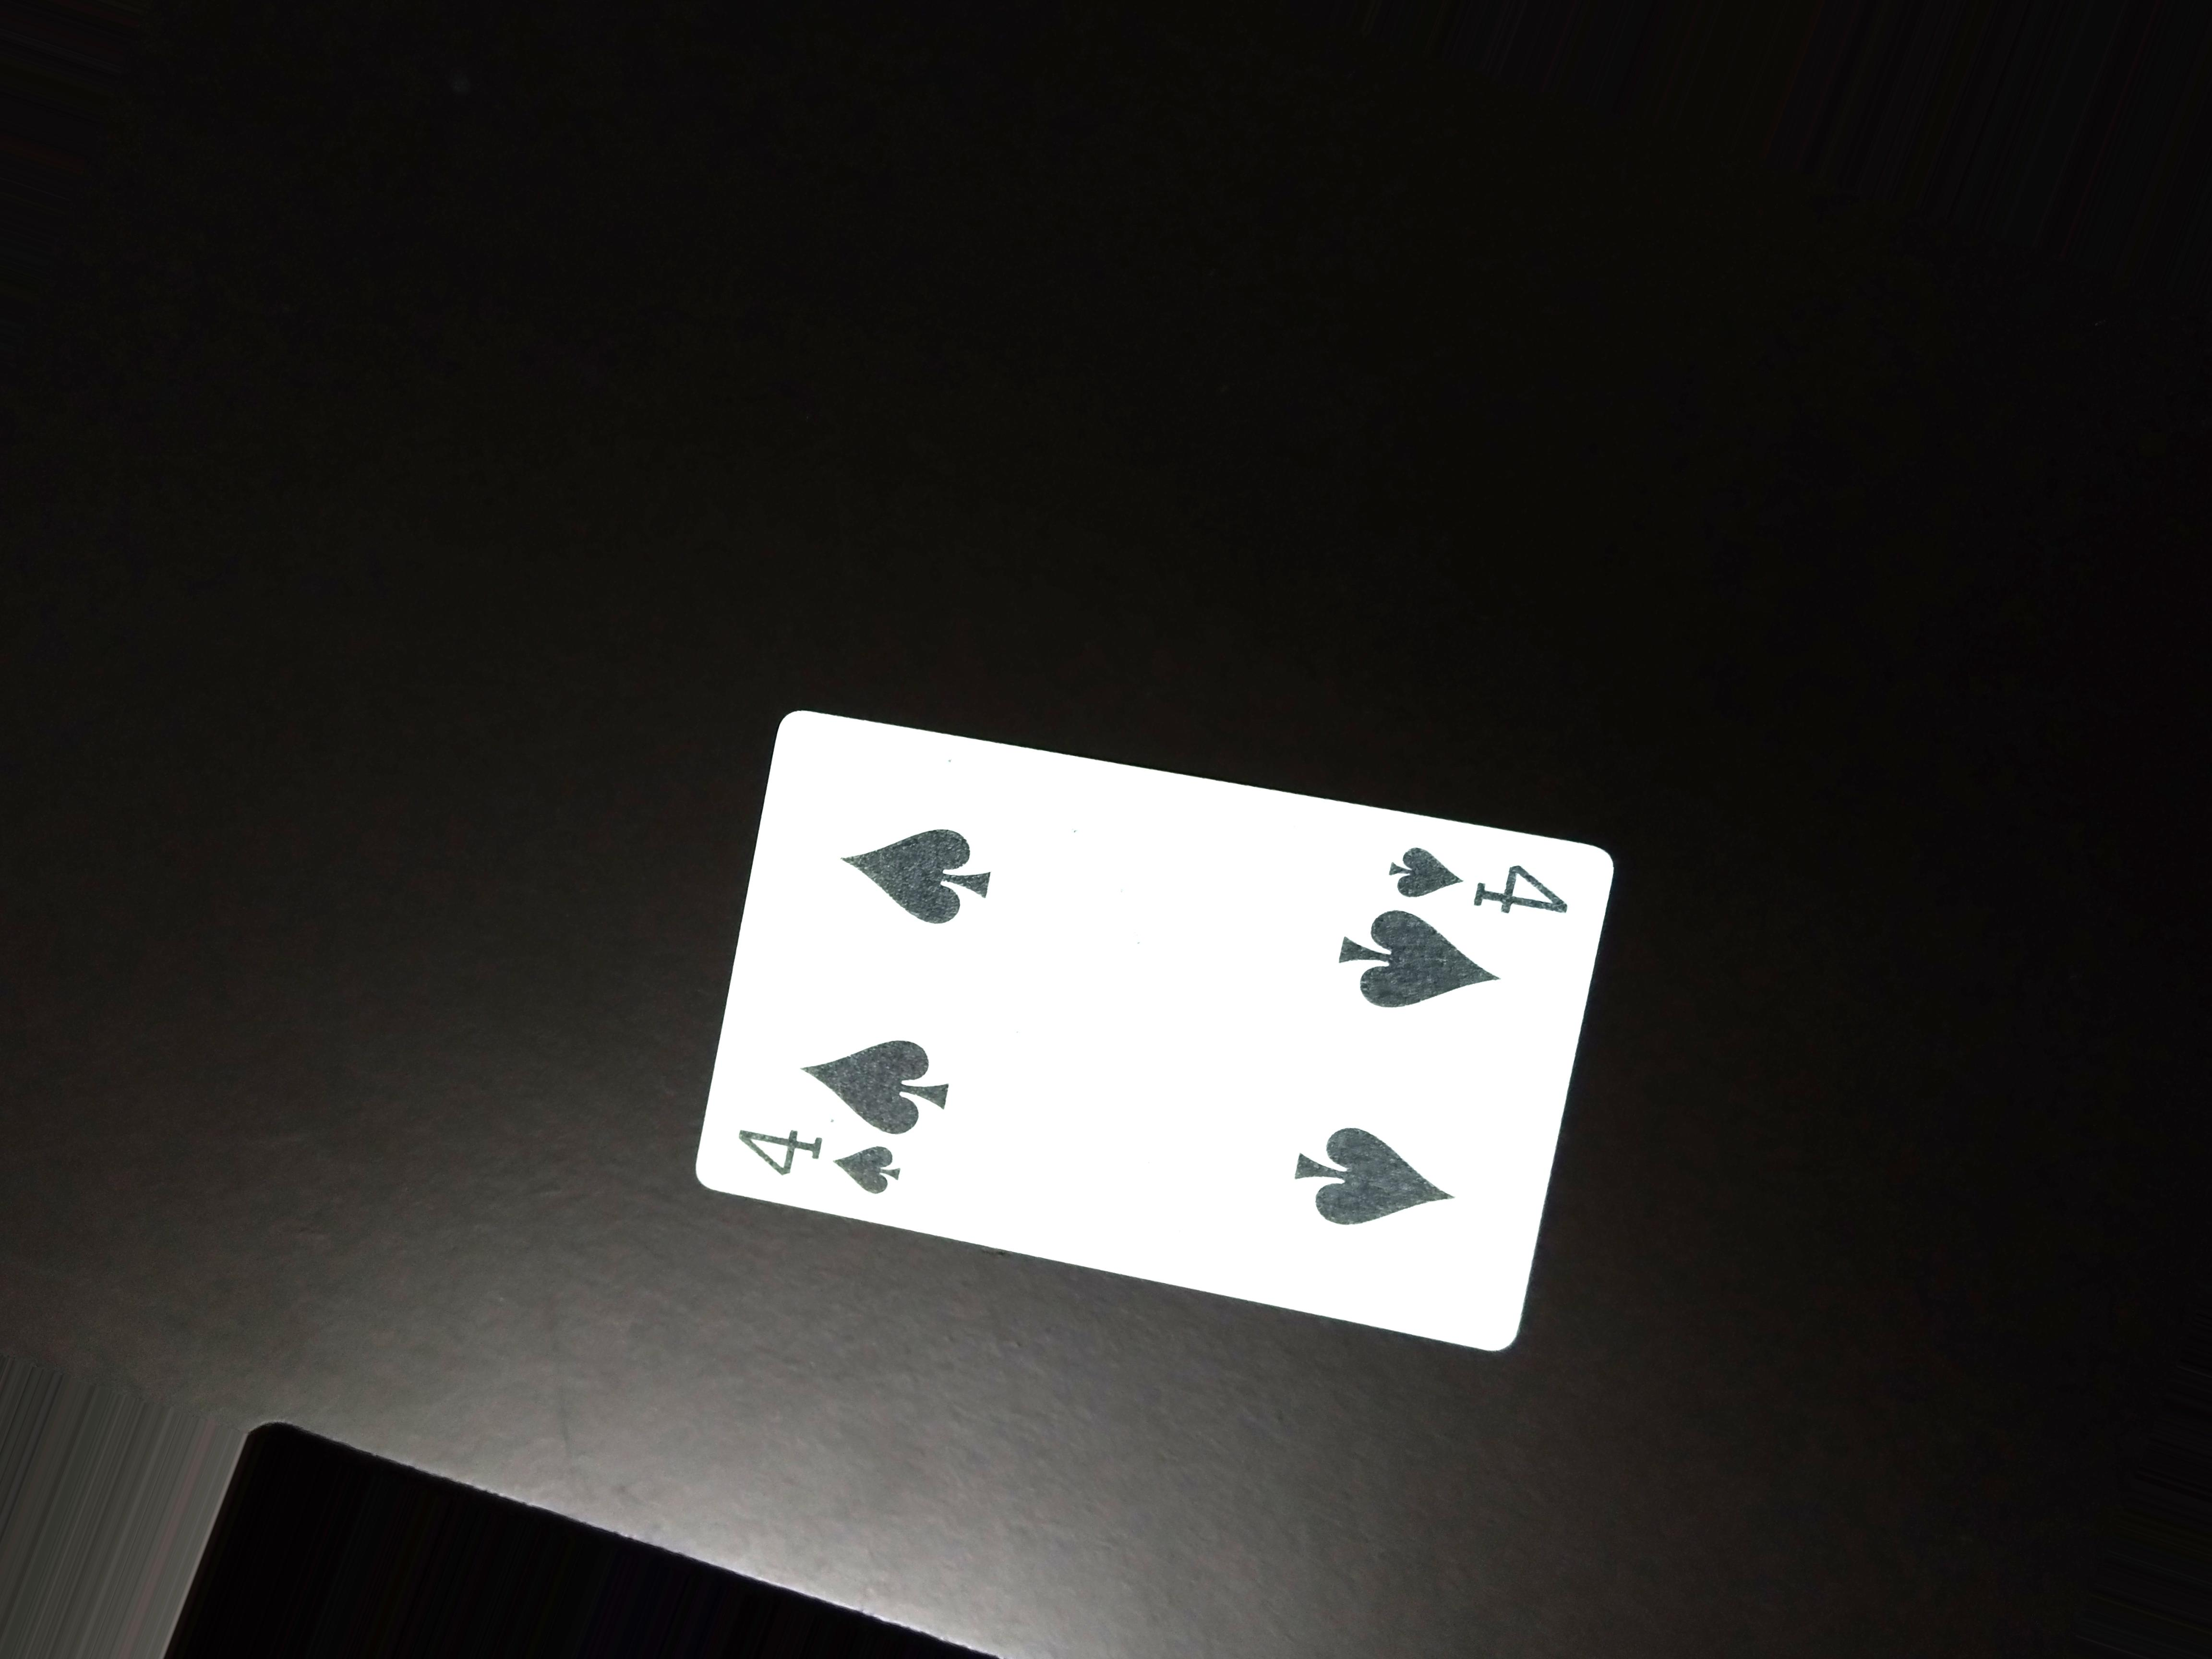4S: (718, 1105, 944, 1208)
